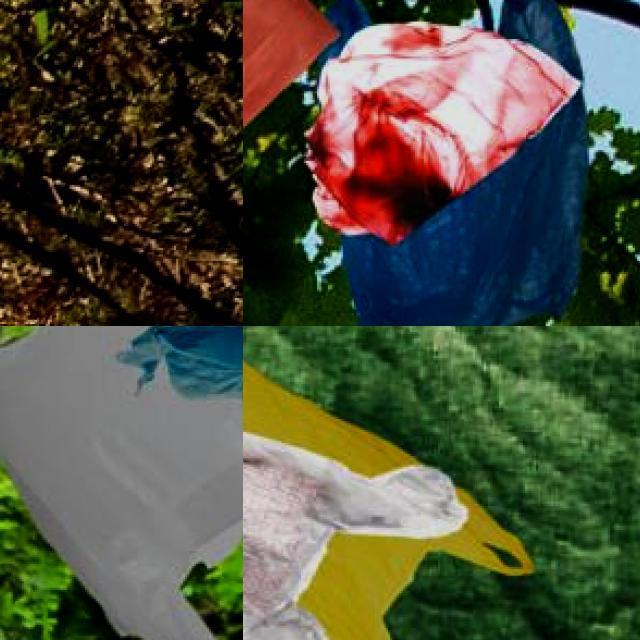waste: (324, 0, 584, 326), (243, 361, 526, 640), (0, 326, 243, 640), (243, 367, 512, 640), (243, 0, 334, 177)
